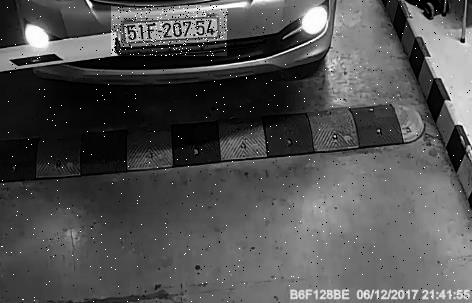License-plate: (113, 6, 230, 57)
